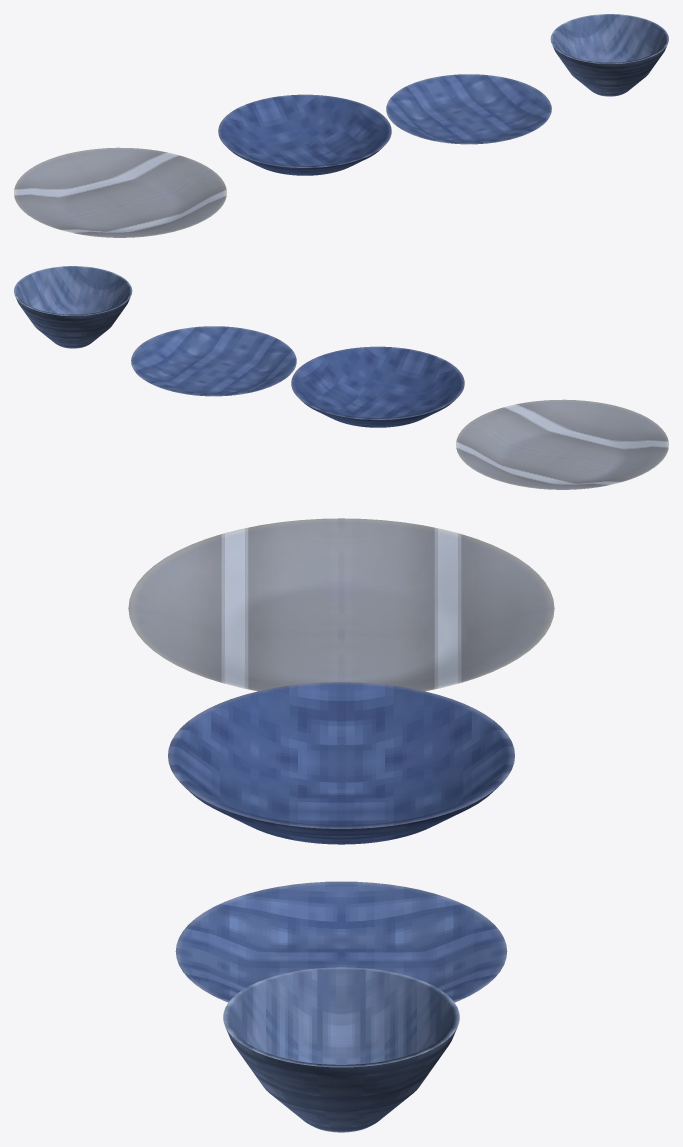
Rendered from FLO-14.glb.
The picture shows the model from 3 angles, top to bottom: view 1: azimuth 30°, elevation 25°; view 2: azimuth 150°, elevation 25°; view 3: azimuth 270°, elevation 25°; orthographic projection. The views are drawn at different scales.
Bounding box in the file's own units: 0.926 × 0.07 × 0.27.
8 materials, 8 textured.
